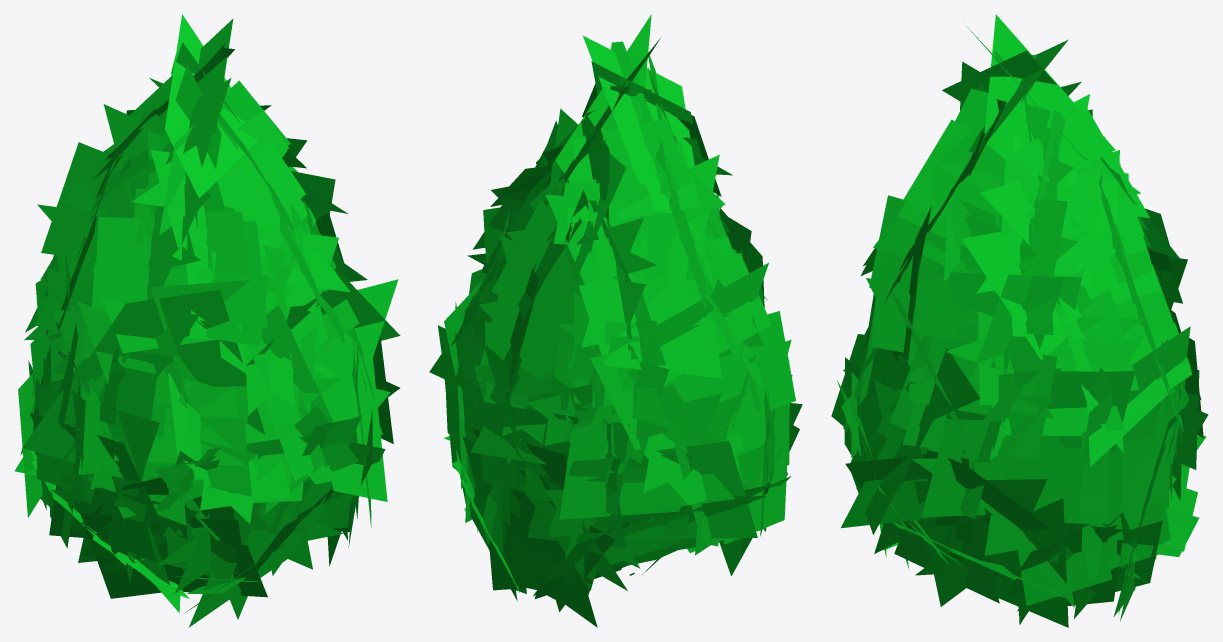
File: northern-white-cedar.fbx
3 views of the same model, side by side, from view 1: azimuth 30°, elevation 25°; view 2: azimuth 150°, elevation 25°; view 3: azimuth 270°, elevation 25° (orthographic). The views are drawn at different scales.
Visible parts, largest first — view 1: Cube; view 2: Cube; view 3: Cube.
Part boxes in pixels (x1=…): Cube: x1=14, y1=14, x2=400, y2=627; Cube: x1=429, y1=14, x2=802, y2=627; Cube: x1=831, y1=14, x2=1208, y2=627.
Bounding box in the file's own units: 441 × 686 × 416.
